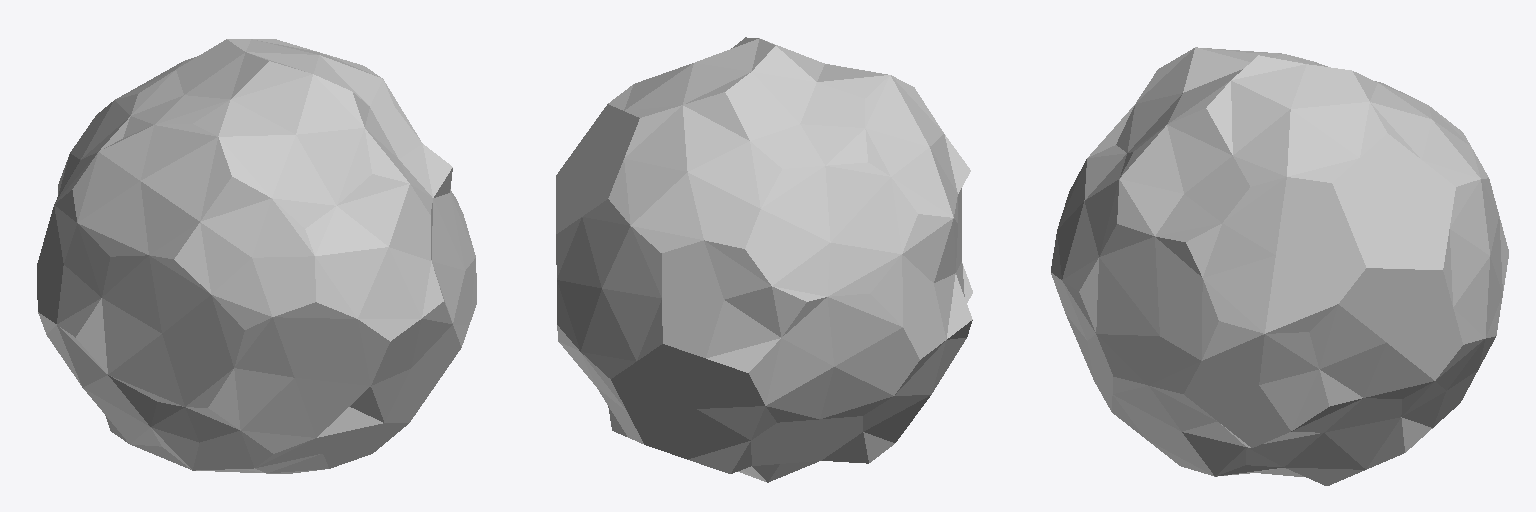
Rendered from planet 5.obj.
3 renders of one model, left to right at view 1: azimuth 30°, elevation 25°; view 2: azimuth 150°, elevation 25°; view 3: azimuth 270°, elevation 25°, orthographic.
Visible parts, largest first — view 1: polySurface857 pSolid56; view 2: polySurface857 pSolid56; view 3: polySurface857 pSolid56.
Boxes of the visible parts, <box> form: polySurface857 pSolid56: <box>37,39,476,473</box>; polySurface857 pSolid56: <box>556,37,972,482</box>; polySurface857 pSolid56: <box>1051,47,1508,485</box>.
Bounding box in the file's own units: 287 × 288 × 296.